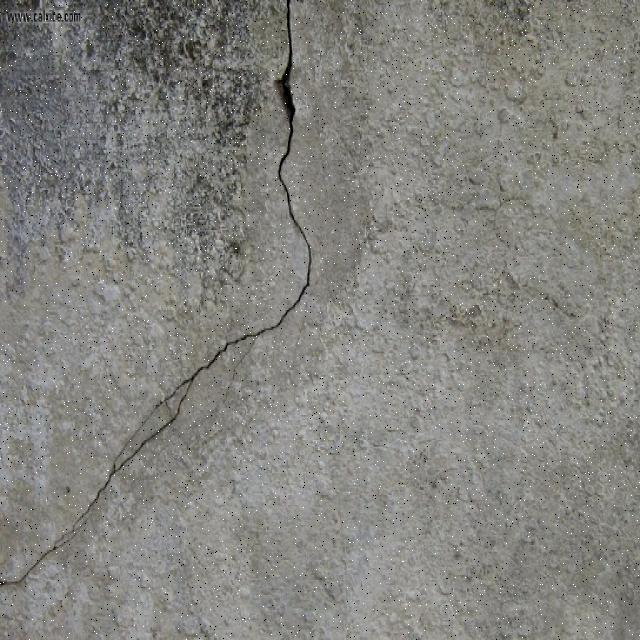moderate crack: (195, 48, 316, 384), (86, 309, 283, 492), (211, 309, 294, 357), (276, 31, 298, 184)
severe crack: (276, 2, 636, 638), (2, 461, 134, 592)
